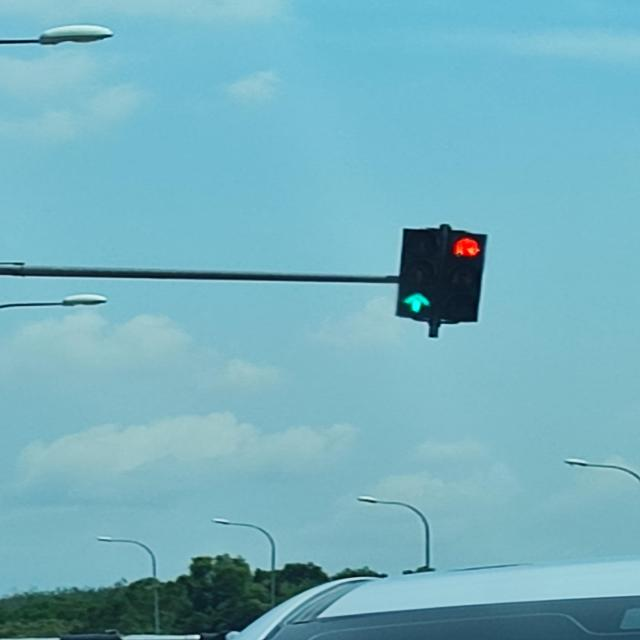car: (167, 554, 640, 640)
traffic light: (396, 226, 488, 336), (396, 228, 443, 326), (441, 229, 487, 325)
